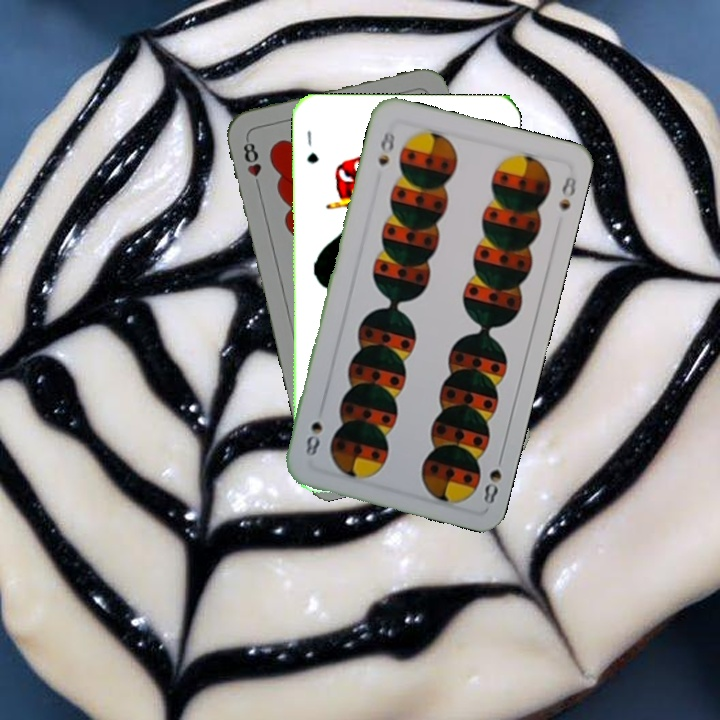GU: (303, 127, 321, 166)
H8: (239, 134, 264, 193)
S8: (479, 449, 506, 507), (373, 123, 398, 168)
